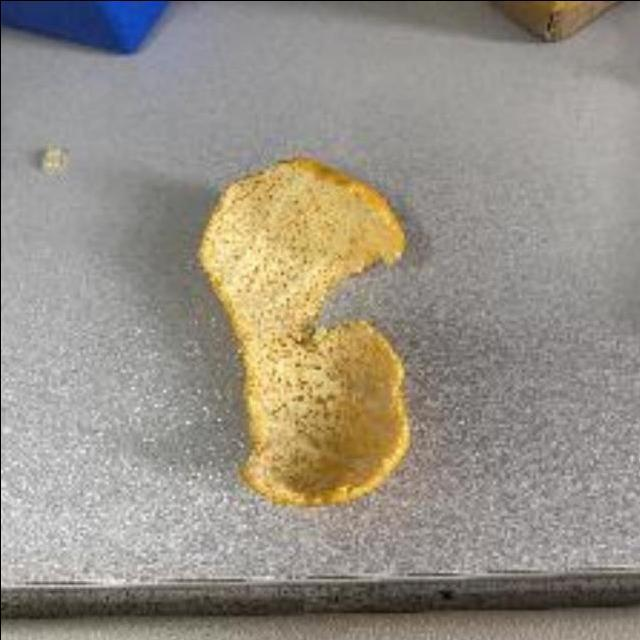orange peel: (194, 150, 418, 523)
